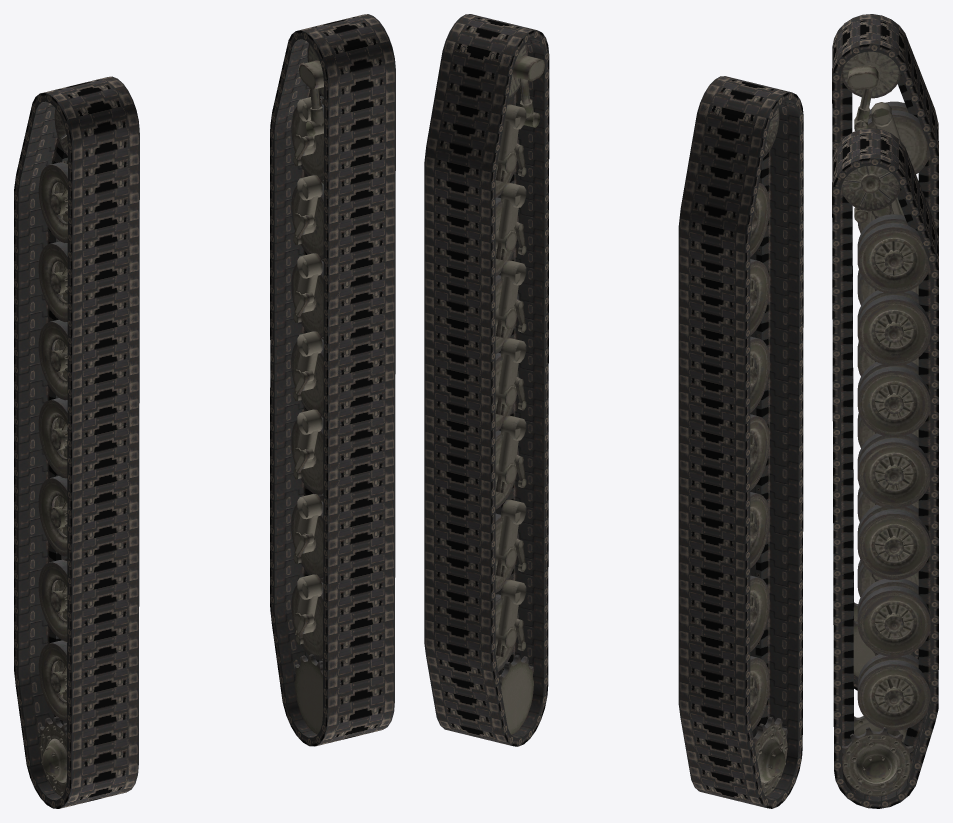
Rendered from Chassis.glb.
The picture shows the model from 3 angles, left to right: view 1: azimuth 30°, elevation 25°; view 2: azimuth 150°, elevation 25°; view 3: azimuth 270°, elevation 25°; orthographic projection. The views are drawn at different scales.
Visible parts, largest first — view 1: set_1_group_0, set_3_group_0, set_4_group_0, set_5_group_0, set_0_group_0, set_2_group_0; view 2: set_1_group_0, set_3_group_0, set_4_group_0, set_5_group_0, set_0_group_0, set_2_group_0; view 3: set_4_group_0, set_3_group_0, set_5_group_0, set_1_group_0, set_2_group_0, set_0_group_0.
Part boxes in pixels (<box>): set_1_group_0: <box>14,76,139,808</box>; set_3_group_0: <box>270,14,395,746</box>; set_4_group_0: <box>291,43,323,734</box>; set_5_group_0: <box>38,108,67,796</box>; set_0_group_0: <box>68,131,139,233</box>; set_2_group_0: <box>324,69,395,170</box>; set_1_group_0: <box>678,76,803,808</box>; set_3_group_0: <box>424,14,549,746</box>; set_4_group_0: <box>495,43,544,734</box>; set_5_group_0: <box>750,108,787,796</box>; set_0_group_0: <box>759,115,803,204</box>; set_2_group_0: <box>507,53,549,142</box>; set_4_group_0: <box>841,165,930,795</box>; set_3_group_0: <box>832,128,938,808</box>; set_5_group_0: <box>841,51,930,676</box>; set_1_group_0: <box>832,14,938,690</box>; set_2_group_0: <box>832,182,852,269</box>; set_0_group_0: <box>832,68,852,155</box>.
Size of the model in its own units: 3.46 by 7.21 by 1.07.
6 materials, 6 textured.
